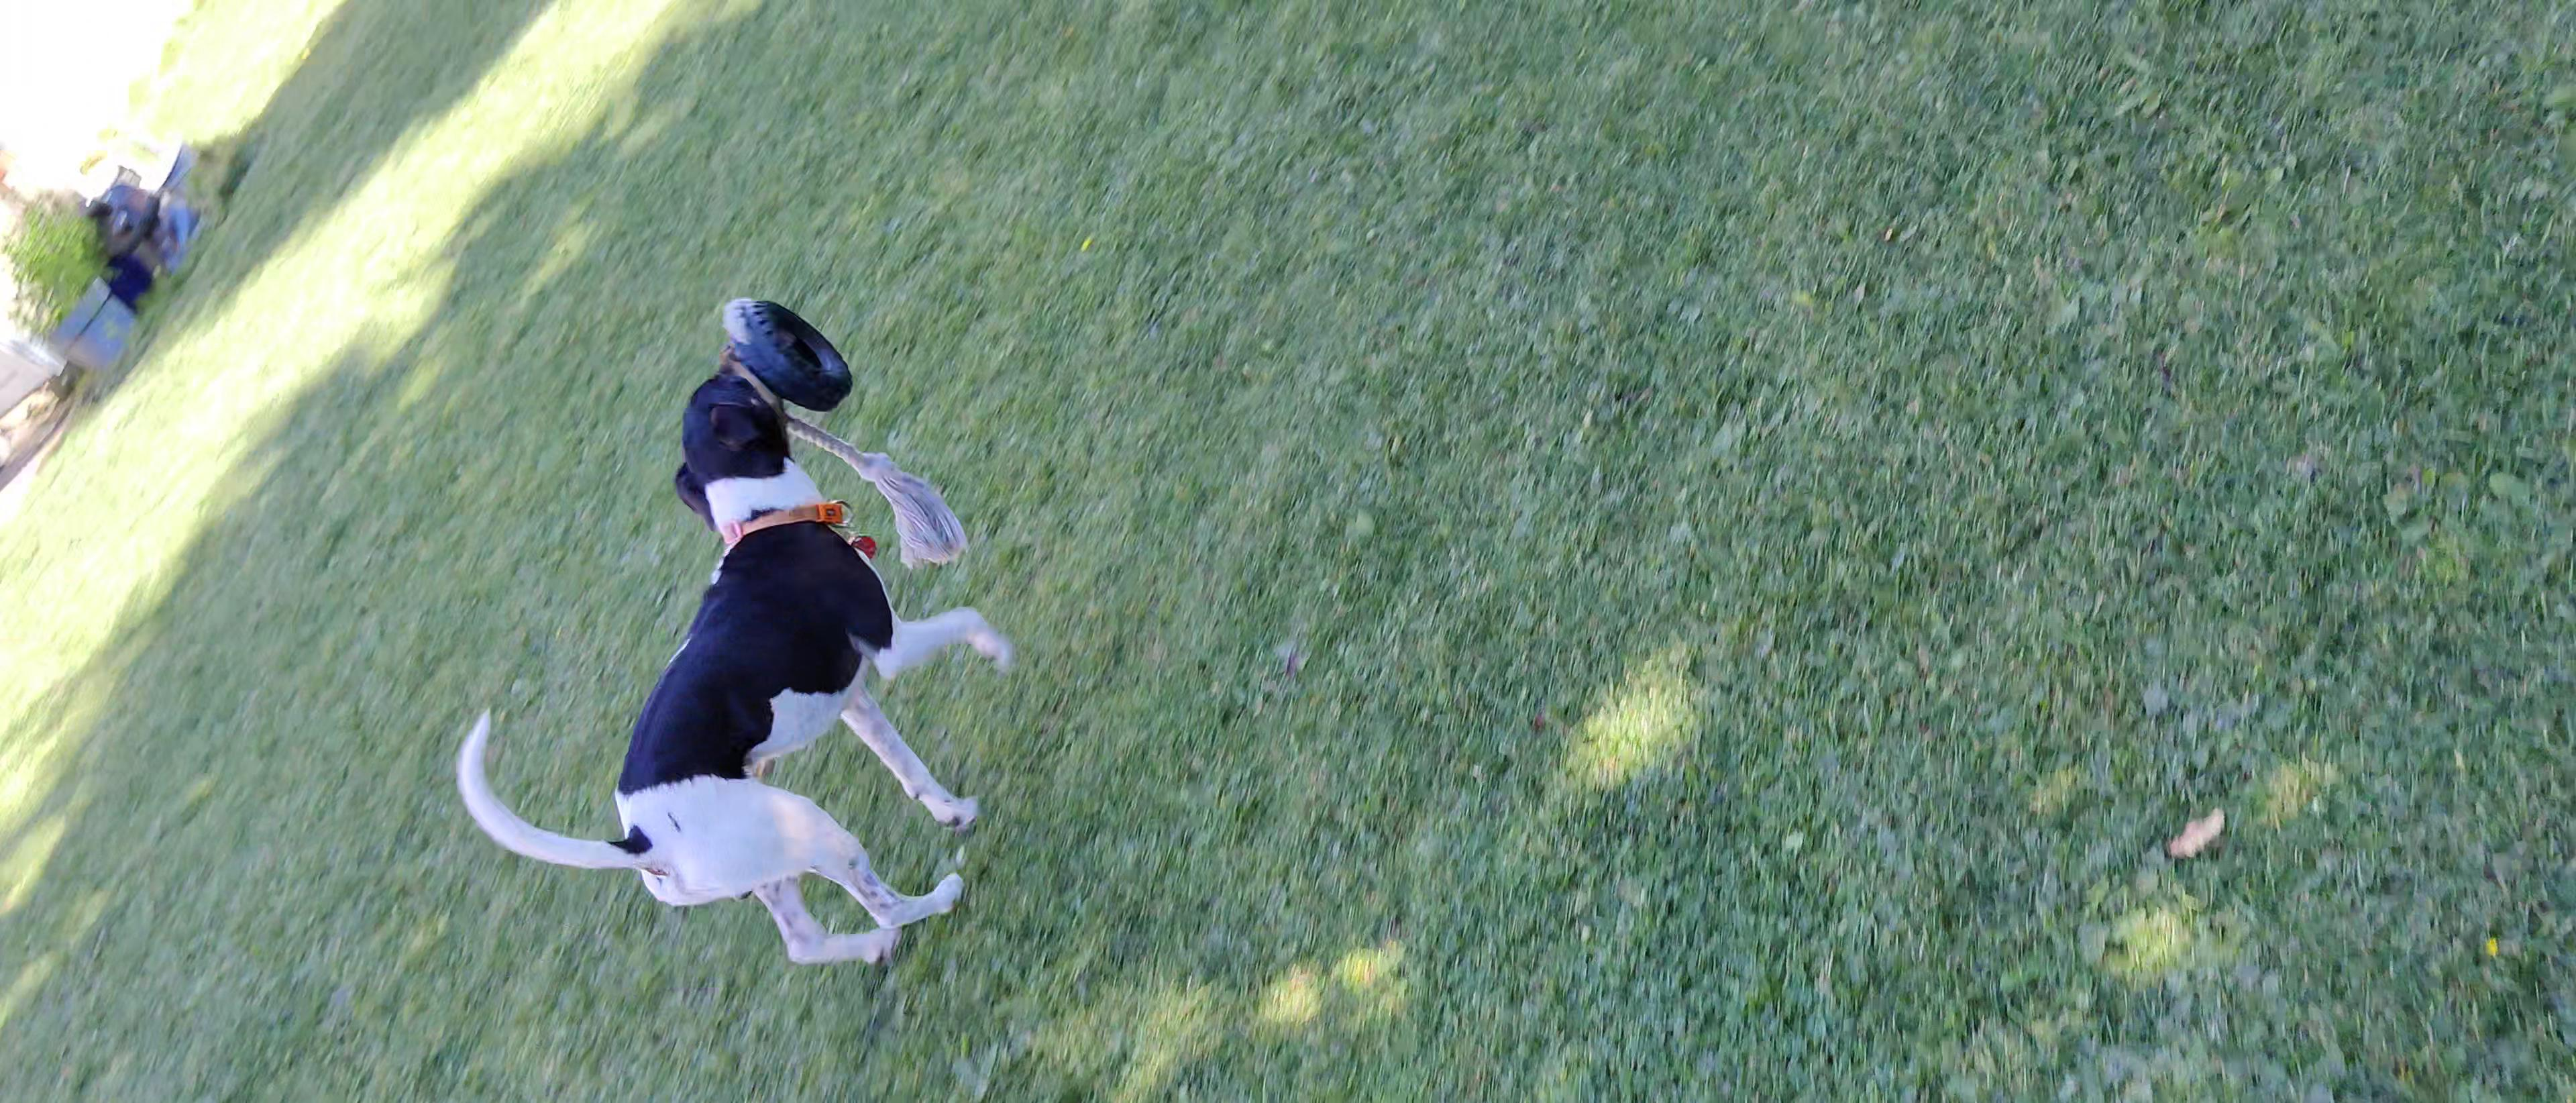Dog: (455, 330, 1017, 971)
